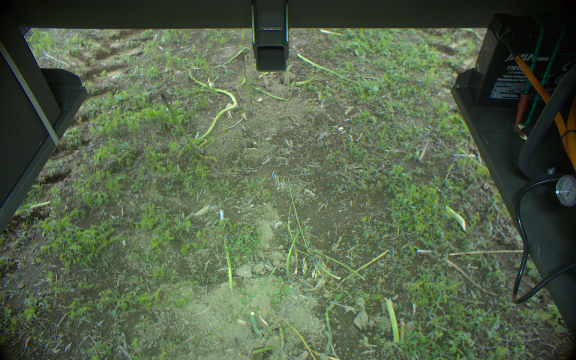aspa: (158, 93, 205, 156), (283, 224, 312, 276), (217, 231, 236, 291), (379, 299, 398, 342), (238, 54, 251, 111)
